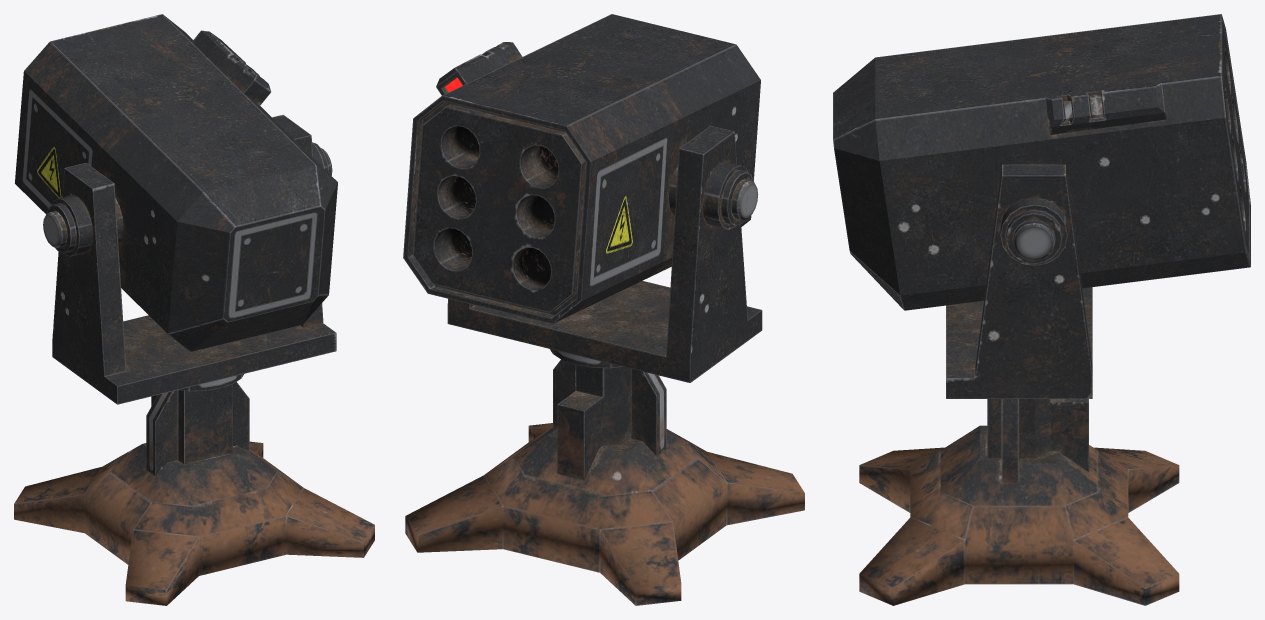
Rendered from missile_turret.glb.
3 renders of one model, left to right at view 1: azimuth 30°, elevation 25°; view 2: azimuth 150°, elevation 25°; view 3: azimuth 270°, elevation 25°, orthographic. The views are drawn at different scales.
Visible parts, largest first — view 1: pCube5, polySurface1, pCube3, pCube2, polySurface2, pCylinder8, pCube6; view 2: pCube5, polySurface1, pCube3, pCube2, polySurface2, pCylinder8, pCube6, pCylinder1; view 3: pCube5, polySurface1, pCube3, polySurface2, pCube2, pCube6, pCylinder8.
Boxes of the visible parts, x1,y1,x2,y2 form: pCube5: (15,14,337,351); polySurface1: (14,441,374,605); pCube3: (52,114,336,404); pCube2: (146,382,249,475); polySurface2: (110,443,277,506); pCylinder8: (43,142,332,256); pCube6: (192,30,271,105); pCube5: (403,14,760,323); polySurface1: (405,423,804,605); pCube3: (447,125,762,382); pCube2: (553,359,666,479); polySurface2: (512,427,697,496); pCylinder8: (669,161,758,229); pCube6: (436,42,522,95); pCylinder1: (550,349,622,368); pCube5: (833,14,1250,310); polySurface1: (859,447,1179,605); pCube3: (946,164,1092,398); polySurface2: (940,425,1097,506); pCube2: (987,399,1088,482); pCube6: (1045,83,1166,134); pCylinder8: (1000,197,1067,265).
Size of the model in its own units: 1.31 by 2 by 1.54.
Materials: 1 (1 with a texture image).
